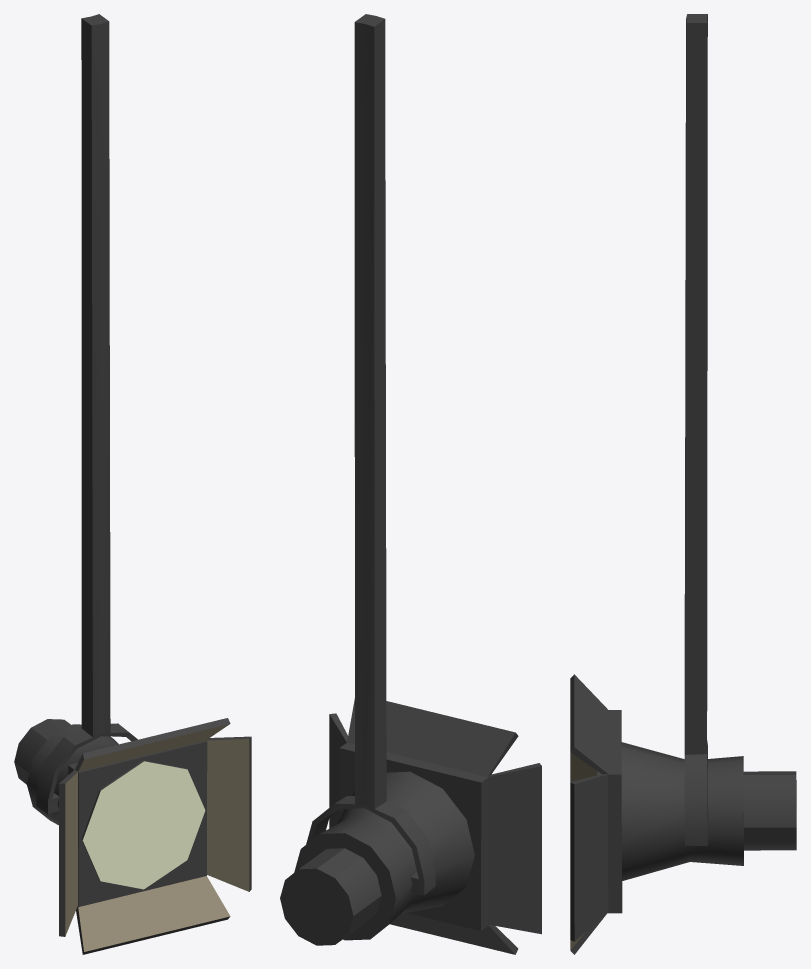
File: High Blonde.fbx
The picture shows the model from 3 angles, left to right: view 1: azimuth 30°, elevation 25°; view 2: azimuth 150°, elevation 25°; view 3: azimuth 270°, elevation 25°; orthographic projection. The views are drawn at different scales.
Visible parts, largest first — view 1: High Blonde, High Blonde Pole; view 2: High Blonde, High Blonde Pole; view 3: High Blonde, High Blonde Pole.
Part boxes in pixels (x1,y1,x2,y2): High Blonde: (14, 718, 251, 954); High Blonde Pole: (36, 14, 137, 813); High Blonde: (280, 698, 541, 954); High Blonde Pole: (306, 14, 435, 895); High Blonde: (570, 674, 796, 954); High Blonde Pole: (684, 14, 708, 845).
Size of the model in its own units: 50.56 by 219 by 49.93.
